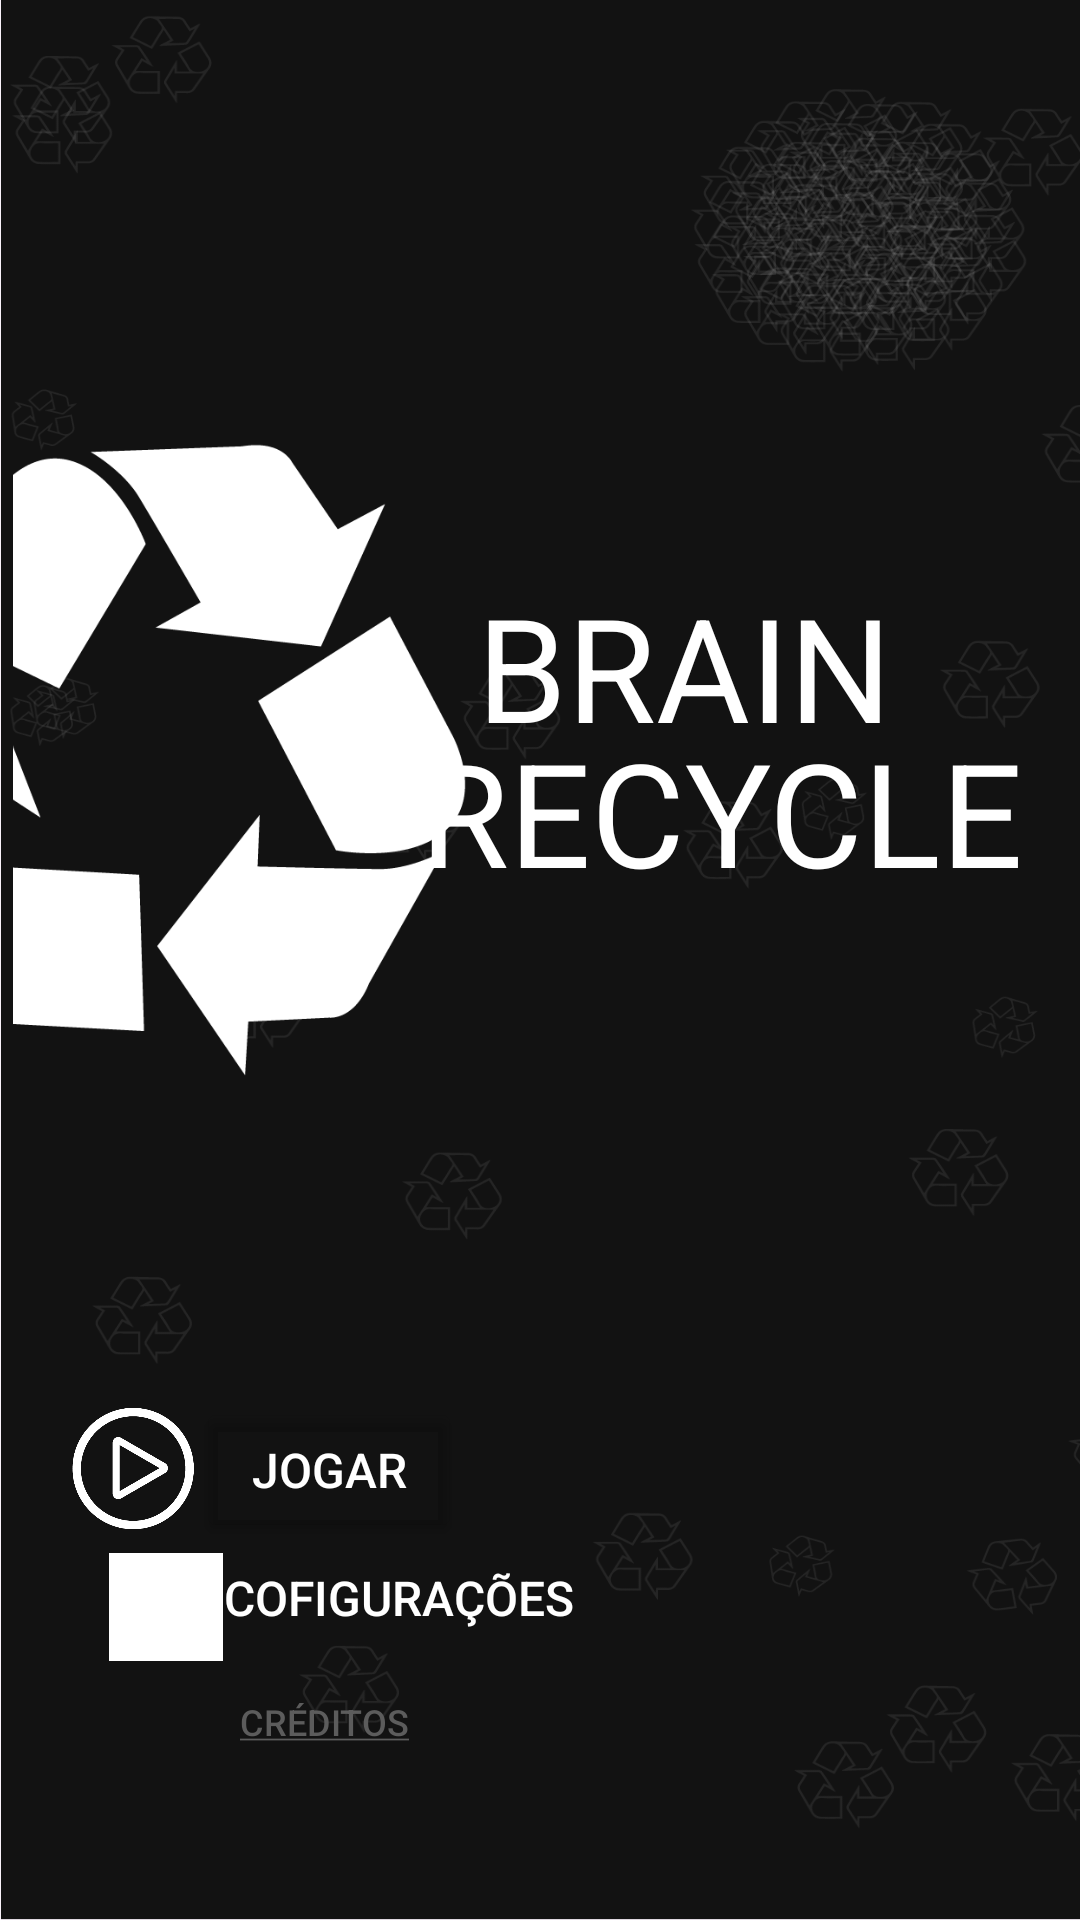

Icon click points for this 1080px x 1920px phone screenshot, format [x,y]:
resume: [133,1468]
